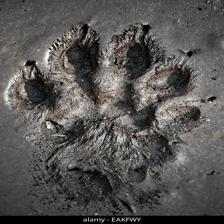bear: (10, 25, 212, 199)
